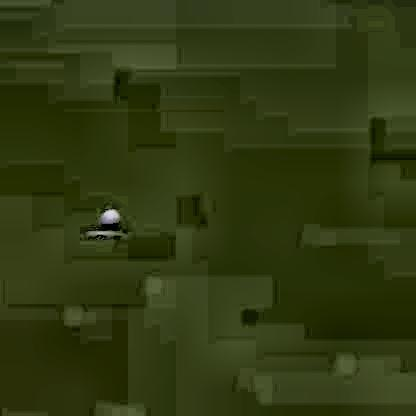golfball: (98, 206, 116, 224)
